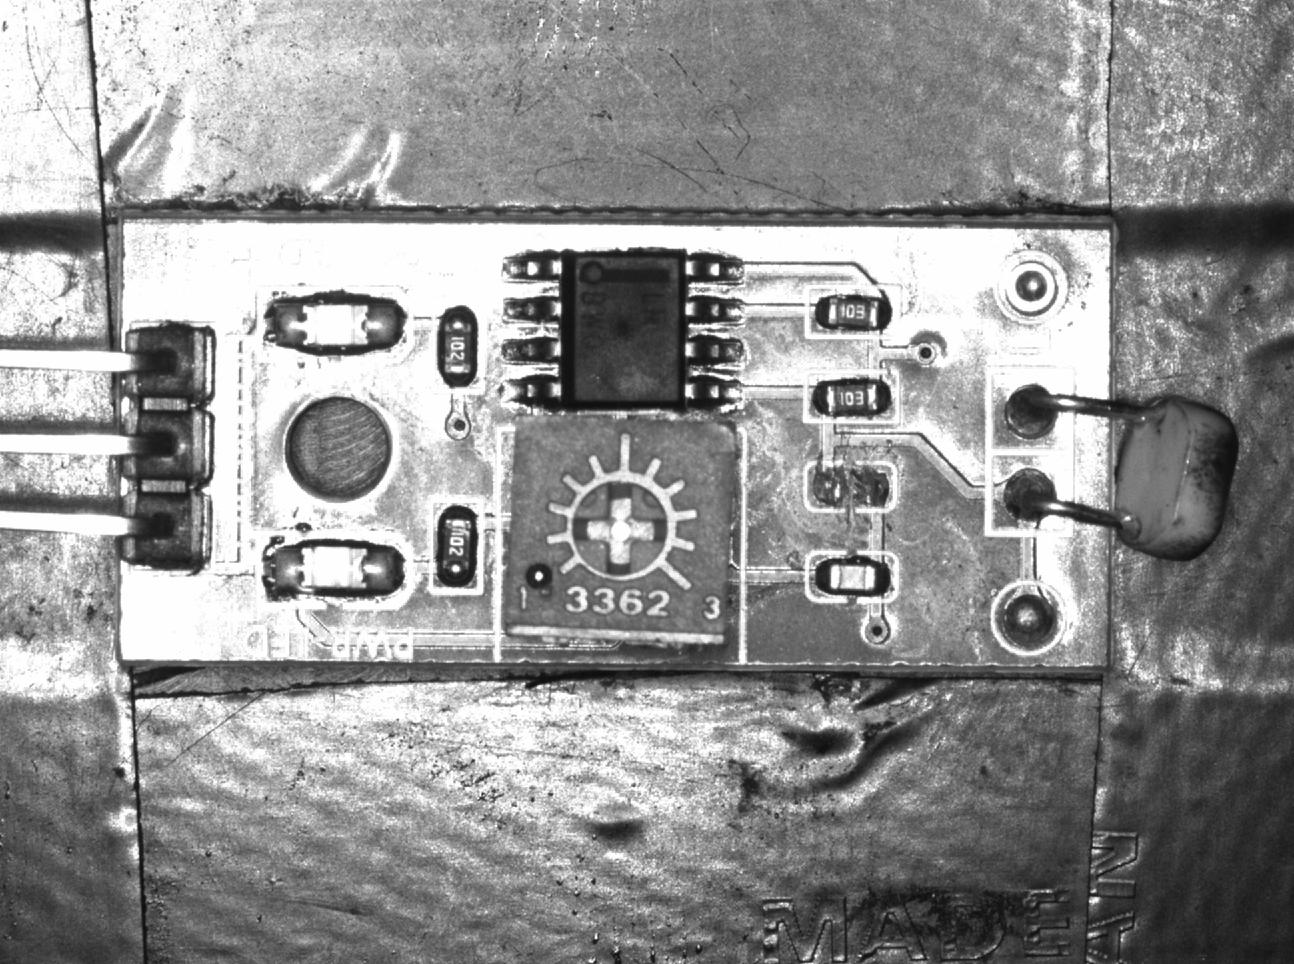miss: (805, 460, 896, 515)
ok: (805, 284, 900, 343), (801, 371, 898, 425), (430, 296, 484, 394), (430, 496, 480, 591), (808, 551, 899, 602)
